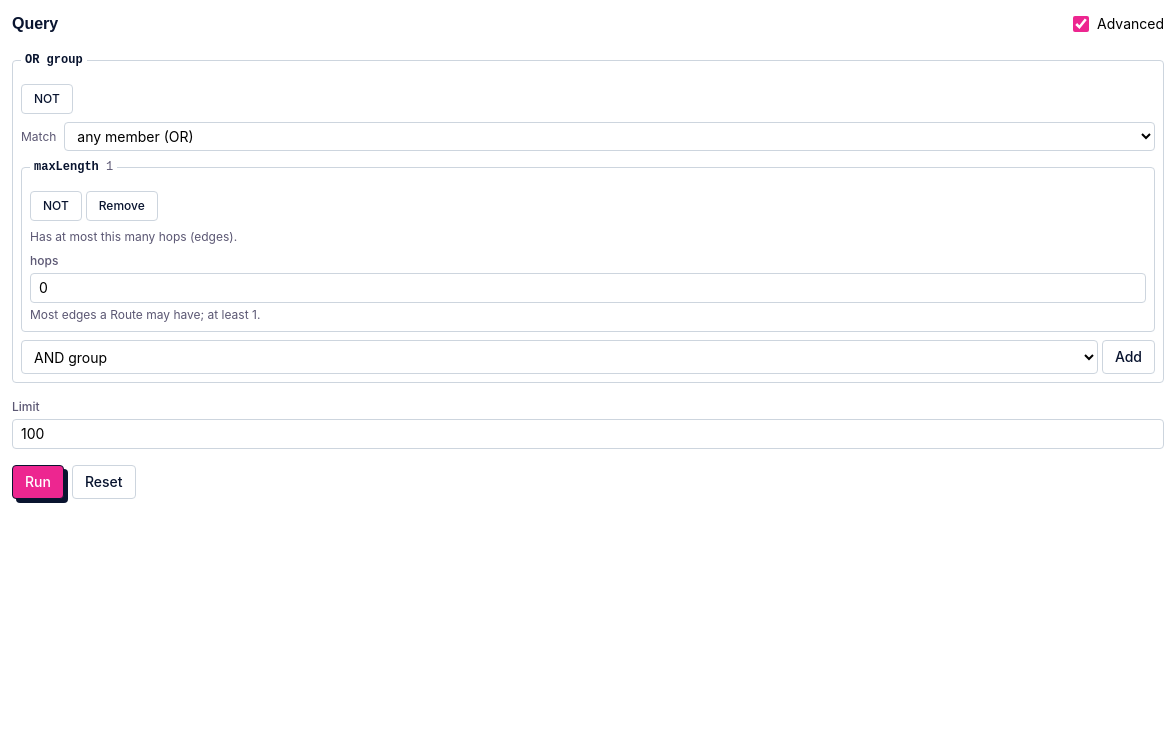
QueryPanel advanced mode › shows tree param errors with the leaf position and does not run
Check: the checkbox labelled "Advanced" is checked, box x1=1073 y1=16 x2=1089 y2=32
Click the button "Run": (38,482) x1=12 y1=465 x2=64 y2=499
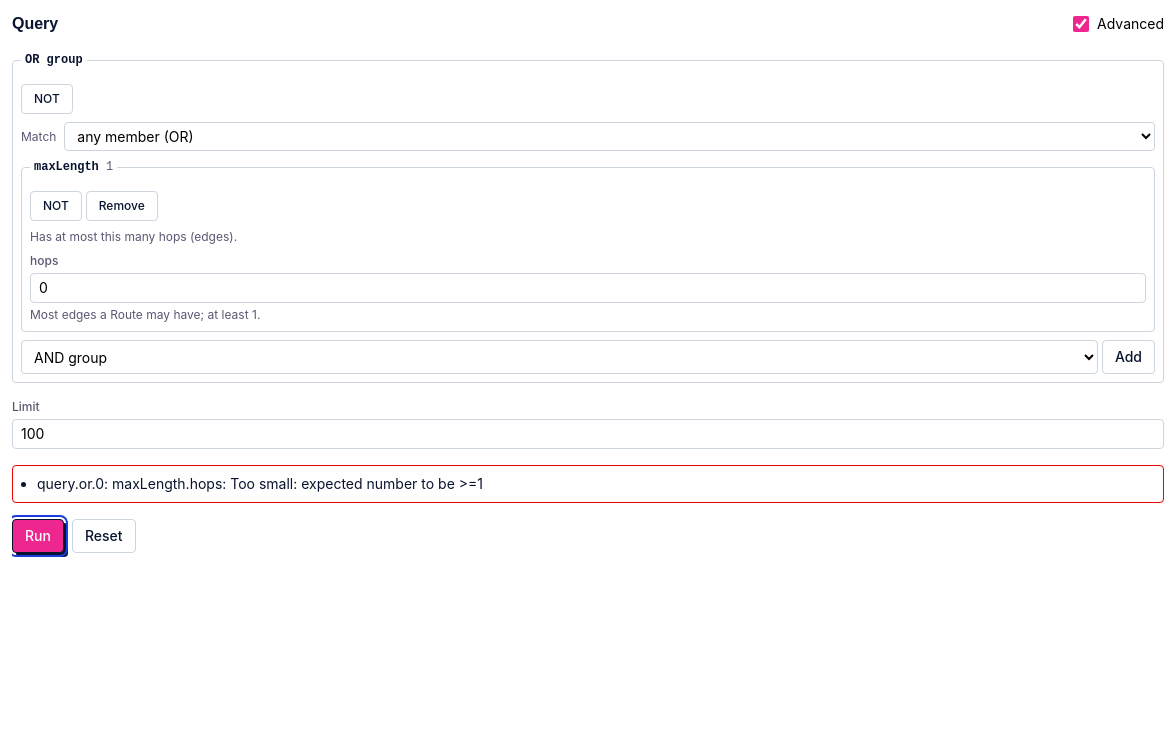
Check: the message reads "query.or.0: maxLength.hops: Too small: expected number to be >=1", box x1=37 y1=475 x2=483 y2=492
